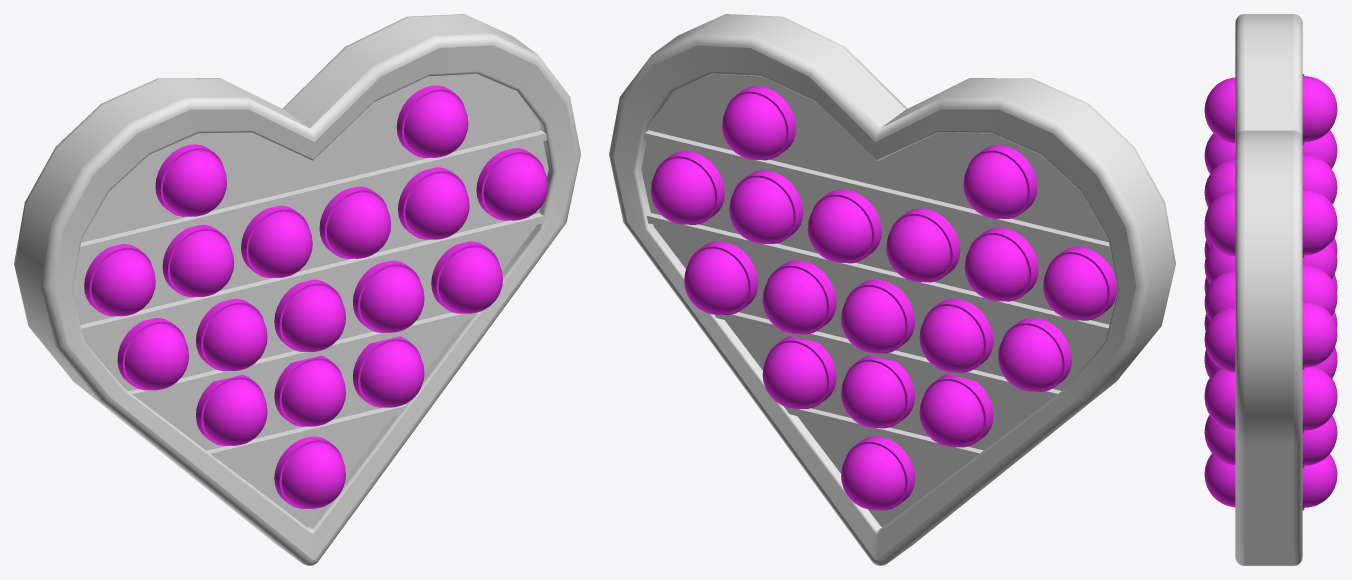
The picture shows the model from 3 angles, left to right: view 1: azimuth 30°, elevation 25°; view 2: azimuth 150°, elevation 25°; view 3: azimuth 270°, elevation 25°; orthographic projection. The views are drawn at different scales.
Visible parts, largest first — view 1: Extrude, Cube.005, Cube.006, Sphere.140, Sphere.134, Sphere.128, Sphere.129, Sphere.139, Sphere.141, Sphere.130, Sphere.132, Sphere.138 (+27 smaller); view 2: Extrude, Cube.001, Cube.002, Sphere.145, Sphere.146, Sphere.157, Sphere.154, Sphere.159, Sphere.149, Sphere.160, Sphere.150, Sphere.153 (+27 smaller); view 3: Extrude, Sphere.144, Sphere.145, Sphere.151, Sphere.152, Sphere.127, Sphere.128, Sphere.129, Sphere.139, Sphere.160, Sphere.143, Sphere.150 (+15 smaller).
Boxes of the visible parts, x1=… form: Extrude: x1=14, y1=14, x2=580, y2=565; Cube.005: x1=79, y1=130, x2=547, y2=254; Cube.006: x1=80, y1=213, x2=543, y2=335; Sphere.140: x1=203, y1=379, x2=267, y2=445; Sphere.134: x1=91, y1=249, x2=155, y2=316; Sphere.128: x1=404, y1=91, x2=468, y2=157; Sphere.129: x1=483, y1=154, x2=547, y2=220; Sphere.139: x1=438, y1=247, x2=502, y2=313; Sphere.141: x1=281, y1=360, x2=345, y2=426; Sphere.130: x1=405, y1=173, x2=469, y2=239; Sphere.132: x1=248, y1=211, x2=312, y2=277; Sphere.138: x1=360, y1=266, x2=424, y2=332; Extrude: x1=609, y1=14, x2=1175, y2=565; Cube.001: x1=643, y1=130, x2=1110, y2=253; Cube.002: x1=646, y1=213, x2=1109, y2=335; Sphere.145: x1=963, y1=152, x2=1027, y2=218; Sphere.146: x1=1043, y1=254, x2=1107, y2=320; Sphere.157: x1=762, y1=342, x2=826, y2=408; Sphere.154: x1=841, y1=286, x2=905, y2=353; Sphere.159: x1=919, y1=380, x2=983, y2=447; Sphere.149: x1=807, y1=196, x2=871, y2=262; Sphere.160: x1=841, y1=443, x2=905, y2=510; Sphere.150: x1=729, y1=177, x2=793, y2=243; Sphere.153: x1=762, y1=267, x2=826, y2=334; Extrude: x1=1235, y1=14, x2=1302, y2=565; Sphere.144: x1=1304, y1=189, x2=1337, y2=255; Sphere.145: x1=1304, y1=76, x2=1337, y2=142; Sphere.151: x1=1304, y1=301, x2=1337, y2=367; Sphere.152: x1=1304, y1=366, x2=1337, y2=430; Sphere.127: x1=1204, y1=77, x2=1235, y2=143; Sphere.128: x1=1204, y1=190, x2=1235, y2=256; Sphere.129: x1=1204, y1=306, x2=1235, y2=372; Sphere.139: x1=1204, y1=368, x2=1235, y2=430; Sphere.160: x1=1304, y1=454, x2=1337, y2=507; Sphere.143: x1=1204, y1=453, x2=1235, y2=507; Sphere.150: x1=1304, y1=264, x2=1337, y2=315.
Size of the model in its own units: 20.6 by 18.21 by 4.59.
